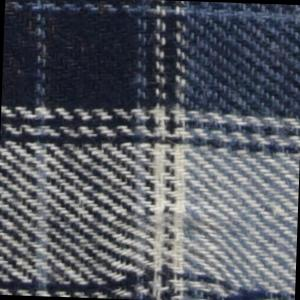Wrinkle: (81, 261, 297, 300)
